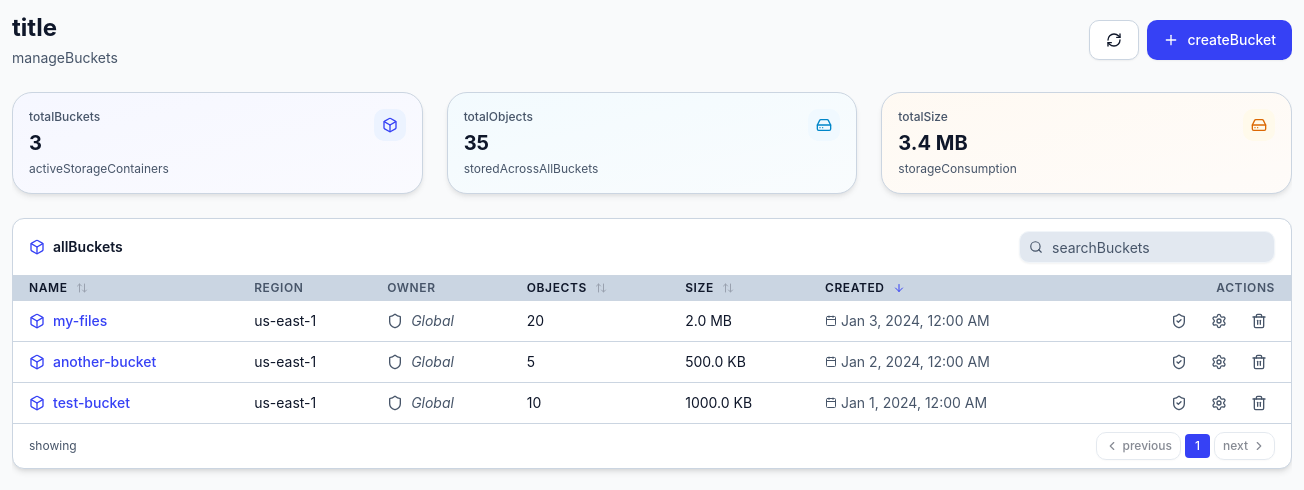
Buckets Page › Search Functionality › should filter buckets by search term
Expected: the link "test-bucket" is shown, [53,393,130,413]
In the field with placeholder "searchBuckets": (1147, 247) [1019,231,1275,263], type "test"
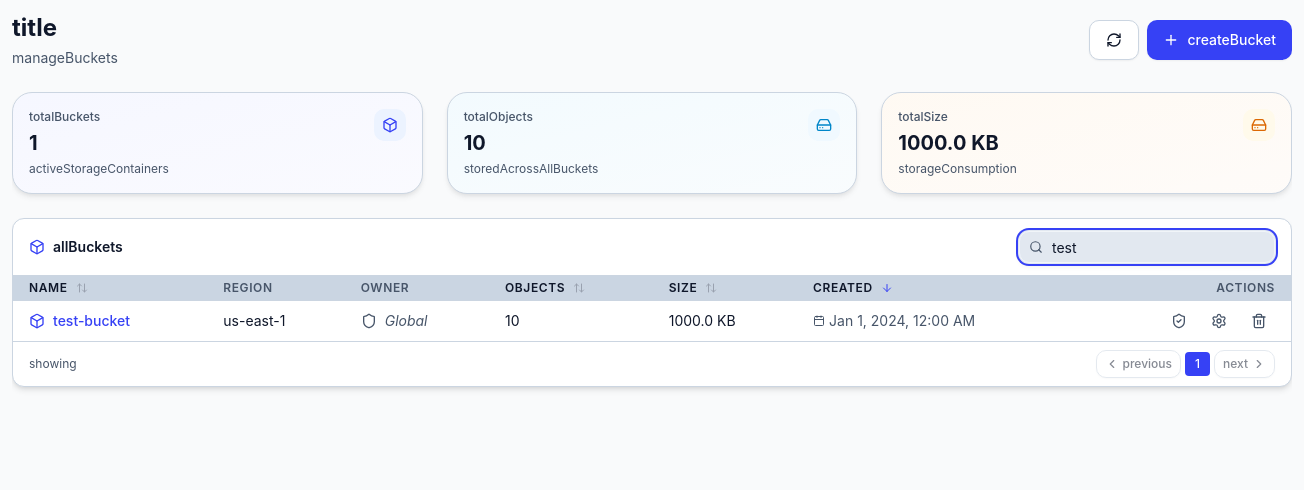
Expected: the link "test-bucket" is shown, [53,311,130,331]
Expected: the link "my-files" is gone
